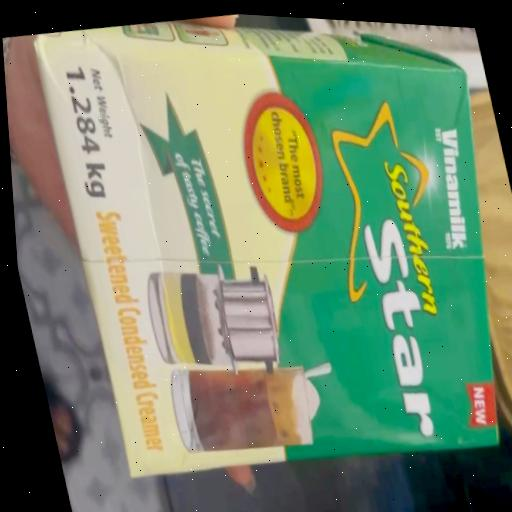ly_giay: (33, 19, 496, 475)
